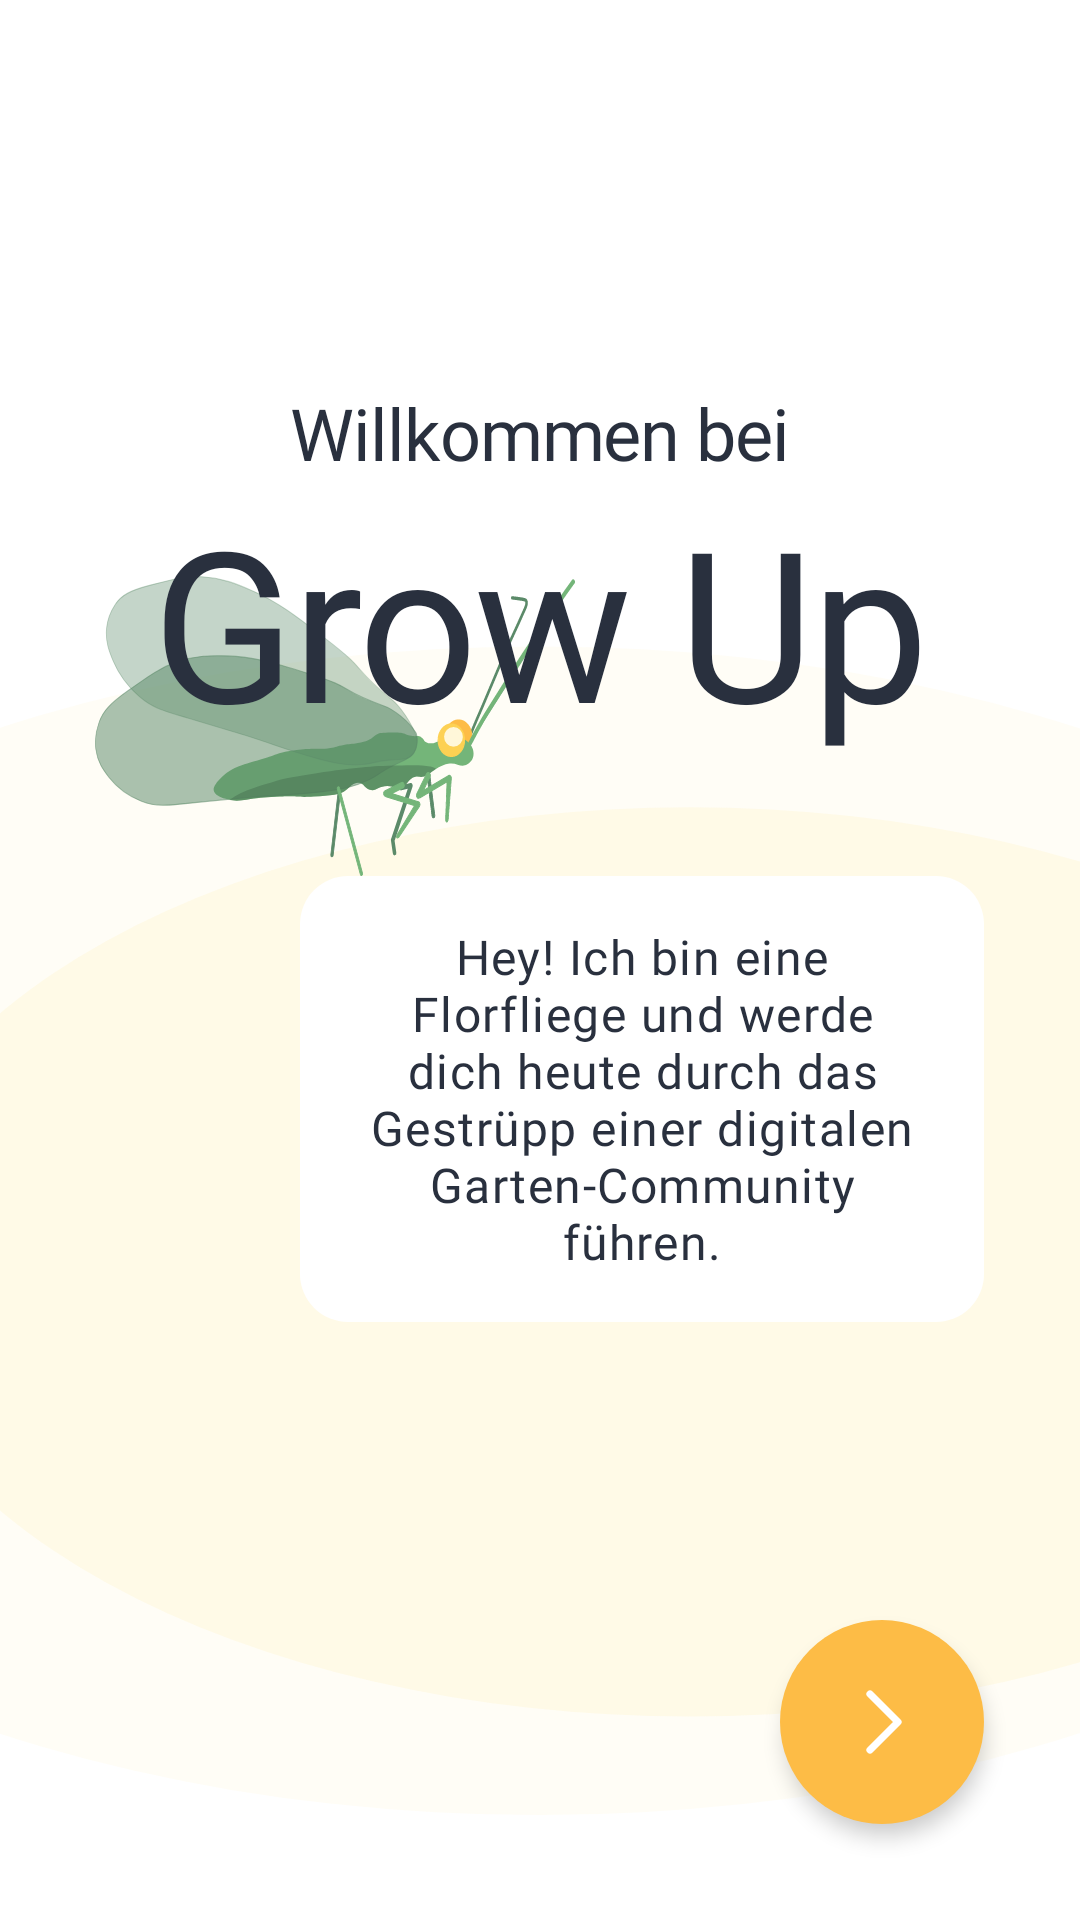

Where icons sit on this 1080×1920 app screen, as (x1, y1, x2, y2):
right: (780, 1620, 984, 1824)
